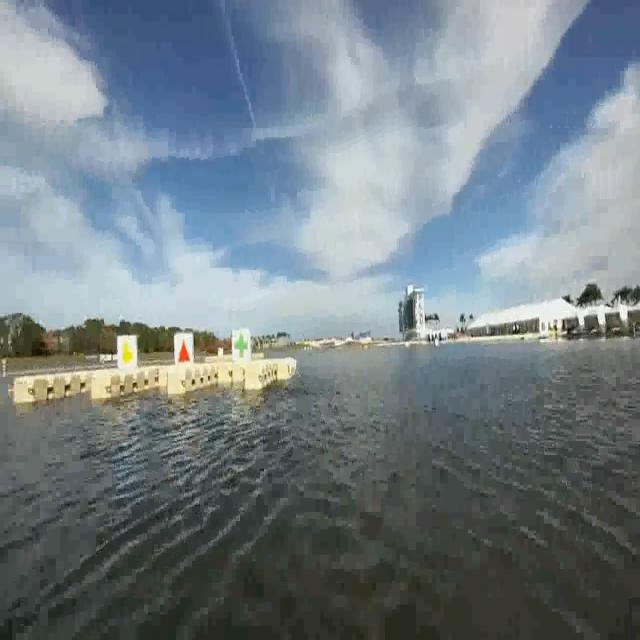blue-cross: (232, 330, 251, 360)
red-dot: (173, 331, 193, 365)
yellow-duck: (116, 334, 138, 371)
